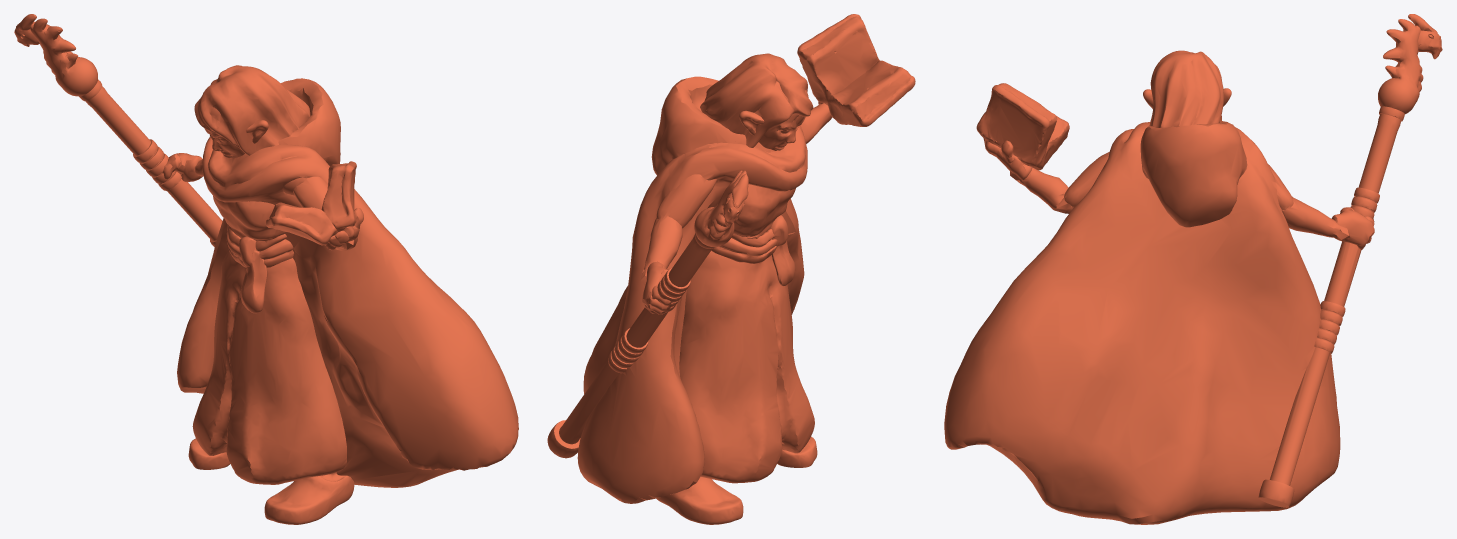
Rendered from FigureMage.fbx.
The picture shows the model from 3 angles, left to right: view 1: azimuth 30°, elevation 25°; view 2: azimuth 150°, elevation 25°; view 3: azimuth 270°, elevation 25°; orthographic projection. The views are drawn at different scales.
Parts seen in each view (by area): view 1: Mage; view 2: Mage; view 3: Mage.
Boxes of the visible parts, left/top/right/bottom form: Mage: left=14, top=14, right=518, bottom=524; Mage: left=547, top=14, right=915, bottom=524; Mage: left=944, top=14, right=1442, bottom=524.
Bounding box in the file's own units: 32.57 × 44.9 × 48.96.
